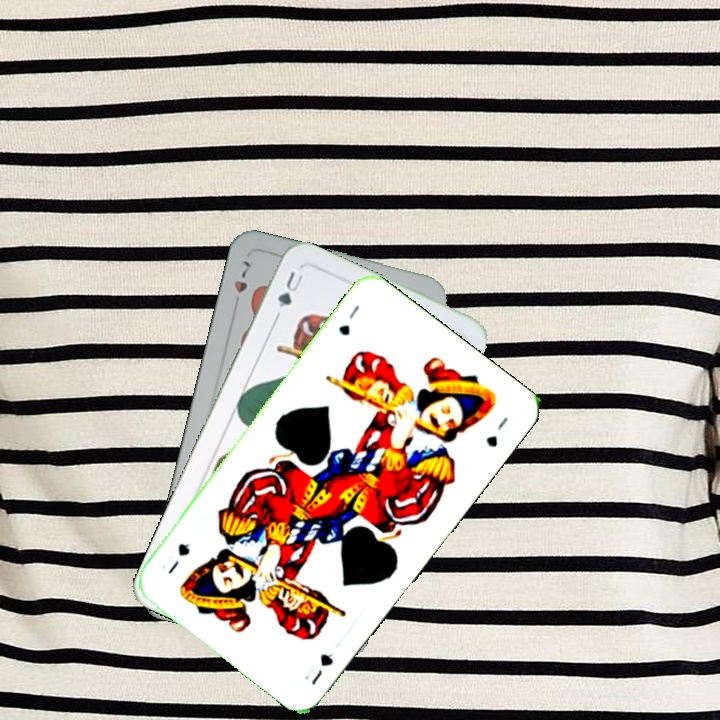GU: (273, 267, 306, 311), (300, 649, 336, 688), (334, 300, 363, 339)
H7: (229, 256, 253, 312)
